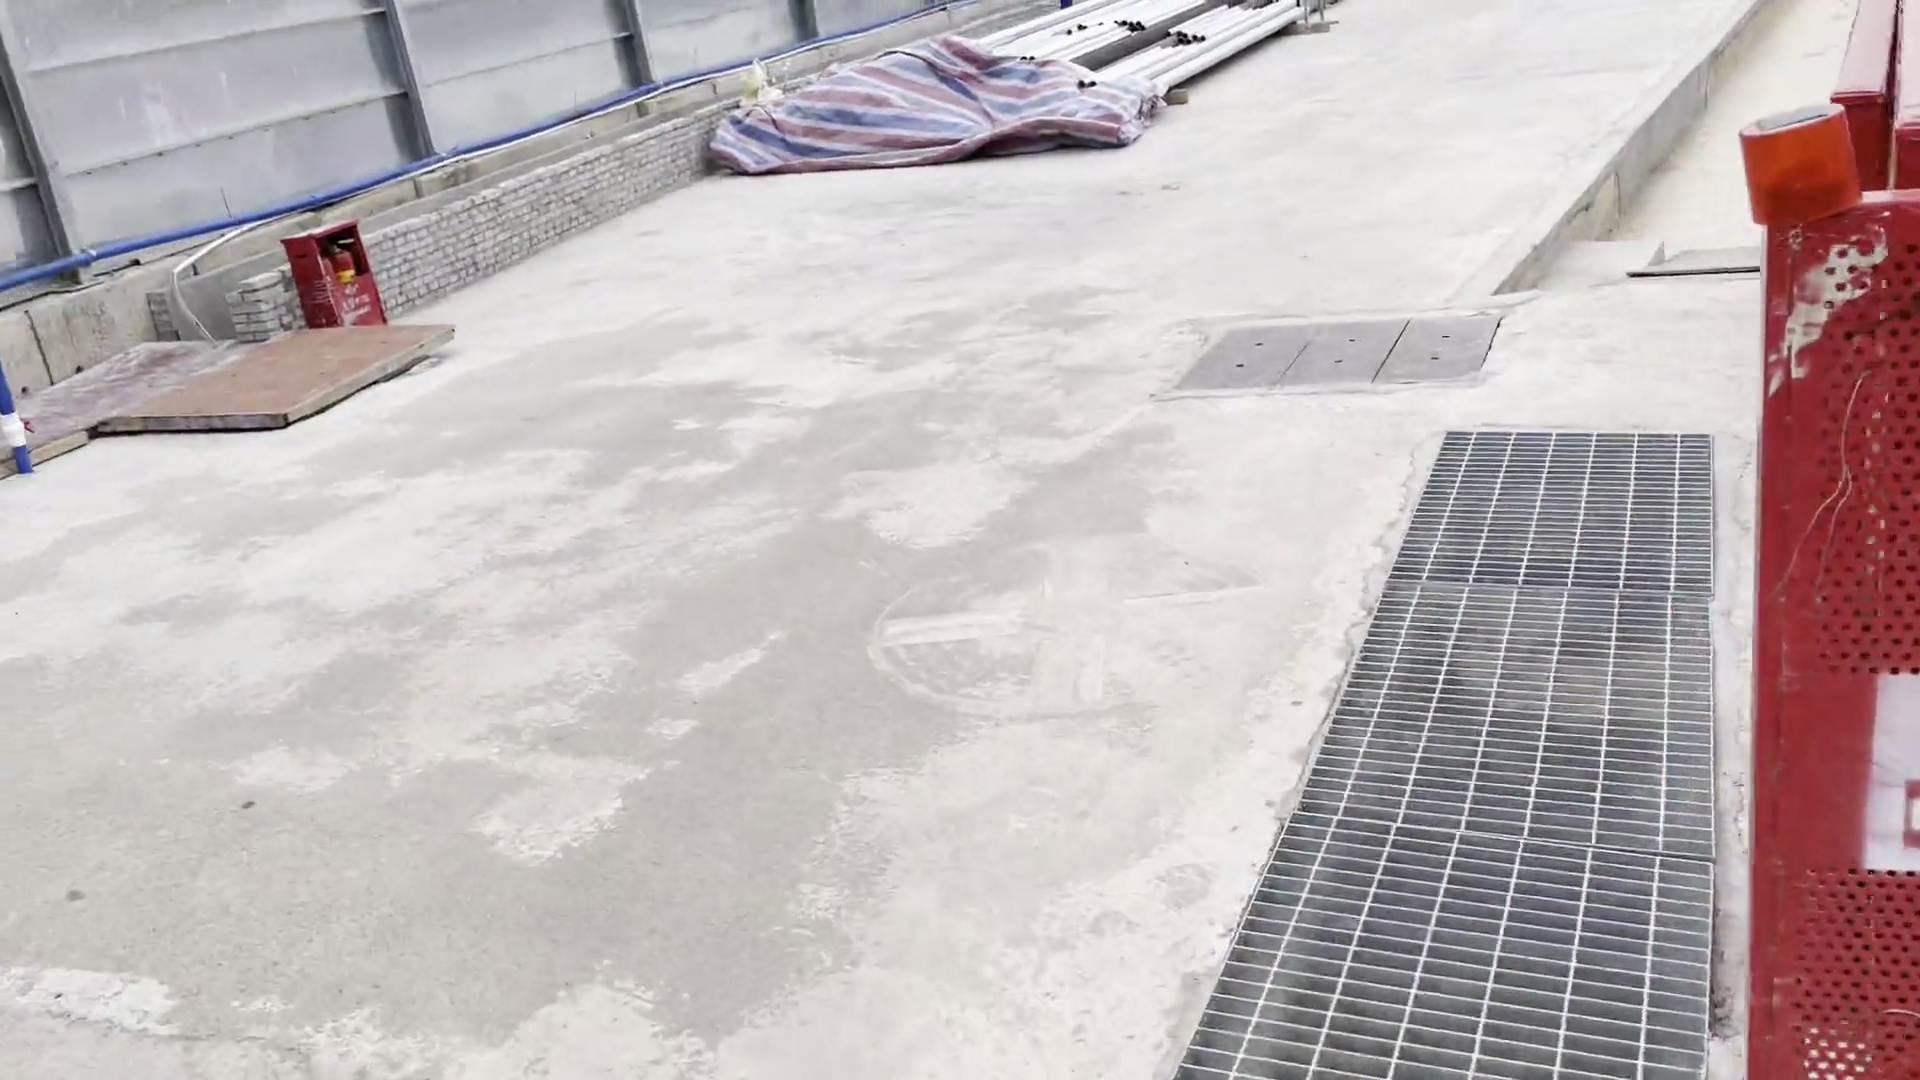board: (1, 305, 488, 495)
brick: (363, 88, 725, 349), (219, 255, 306, 349)
fence: (1737, 91, 1920, 1080)
